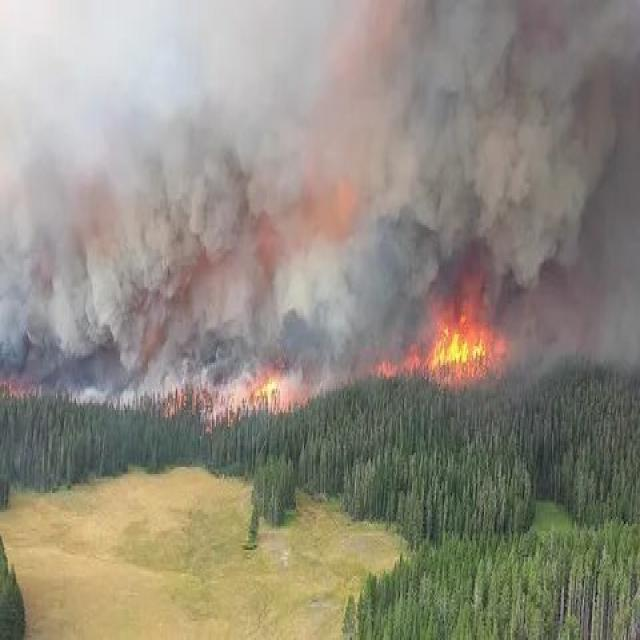Fire: (361, 247, 514, 403)
Smoke: (5, 4, 640, 284)
